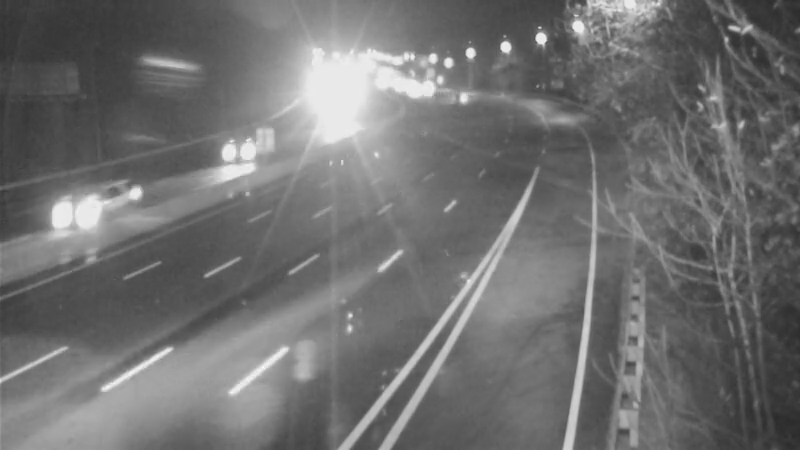vehicle: (39, 165, 119, 245), (199, 114, 279, 194), (431, 73, 481, 123)
